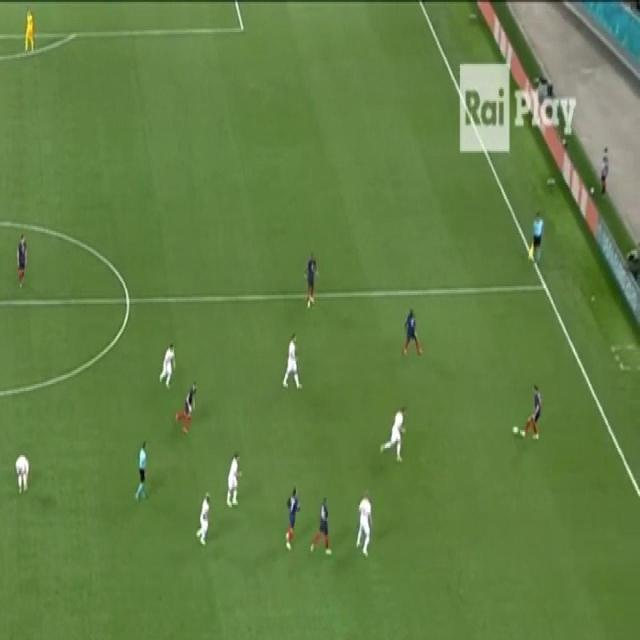ball: (513, 424, 519, 437), (590, 184, 595, 196)
player-white: (378, 406, 406, 464), (309, 497, 333, 558), (519, 384, 543, 441), (175, 380, 198, 436), (282, 333, 304, 391), (284, 484, 302, 552), (356, 489, 373, 558), (401, 306, 423, 358), (225, 452, 242, 512), (134, 440, 149, 502), (158, 341, 176, 391), (195, 492, 211, 548), (304, 250, 319, 308), (16, 233, 29, 293), (531, 211, 545, 265), (15, 452, 29, 493), (24, 8, 36, 55)
